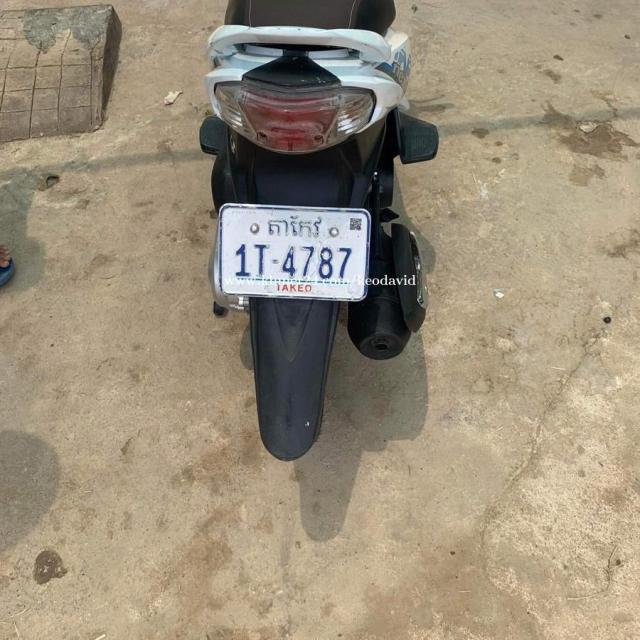Takeo: (266, 214, 327, 242)
